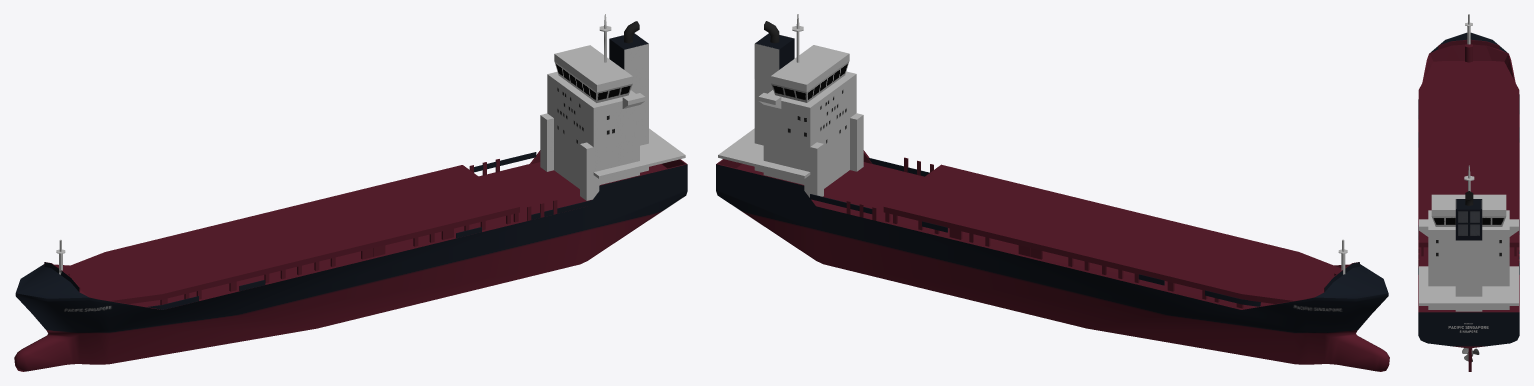
Rendered from PacificSingaporeVessel.glb.
The picture shows the model from 3 angles, left to right: view 1: azimuth 30°, elevation 25°; view 2: azimuth 150°, elevation 25°; view 3: azimuth 270°, elevation 25°; orthographic projection. The views are drawn at different scales.
Parts seen in each view (by area): view 1: node_0; view 2: node_0; view 3: node_0.
Boxes of the visible parts, x1,y1,x2,y2 form: node_0: (14,14,687,371); node_0: (716,14,1389,371); node_0: (1418,14,1519,371).
Size of the model in its own units: 128972 by 41283 by 20144.
Materials: 1 (1 with a texture image).
